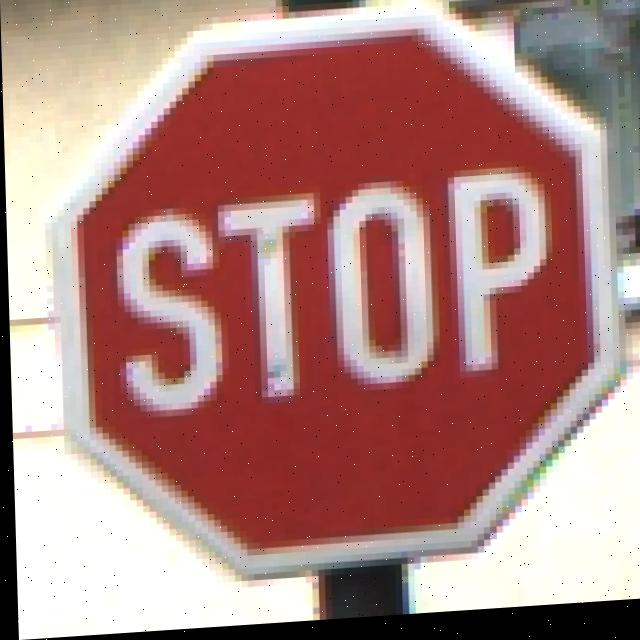stop: (36, 0, 640, 579)
